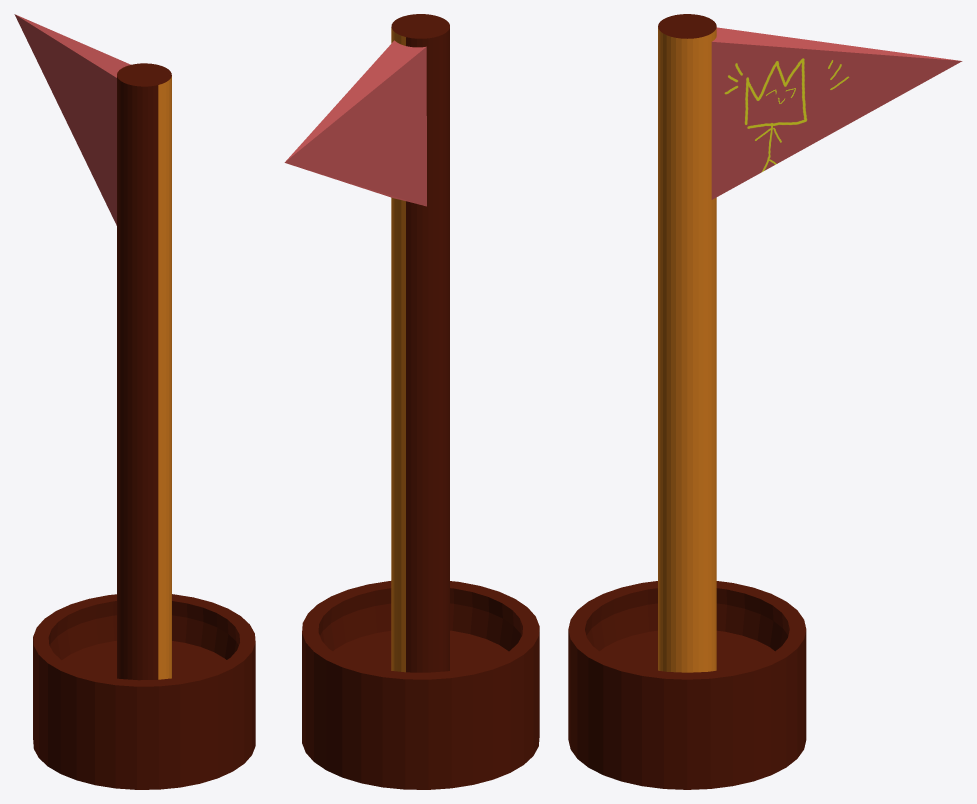
The model's file is flag.fbx.
The picture shows the model from 3 angles, left to right: view 1: azimuth 30°, elevation 25°; view 2: azimuth 150°, elevation 25°; view 3: azimuth 270°, elevation 25°; orthographic projection. The views are drawn at different scales.
Parts seen in each view (by area): view 1: Circle.002, Cube; view 2: Circle.002, Cube; view 3: Circle.002, Cube.
Part boxes in pixels (x1,y1,x2,y2): Circle.002: (33, 63, 255, 789); Cube: (14, 14, 130, 225); Circle.002: (302, 14, 539, 789); Cube: (284, 40, 426, 206); Circle.002: (568, 14, 806, 789); Cube: (711, 27, 962, 199).
Bounding box in the file's own units: 200 × 661 × 331.
3 materials, 1 textured.
